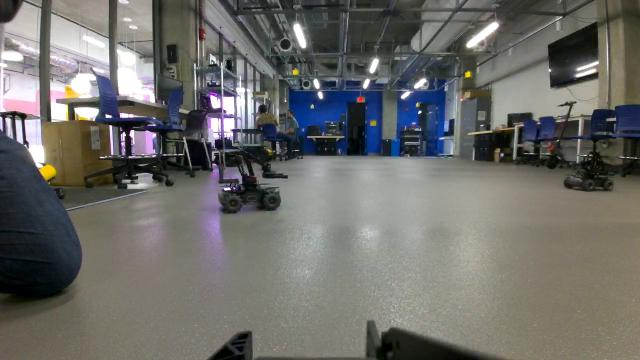robot: (215, 144, 293, 219)
